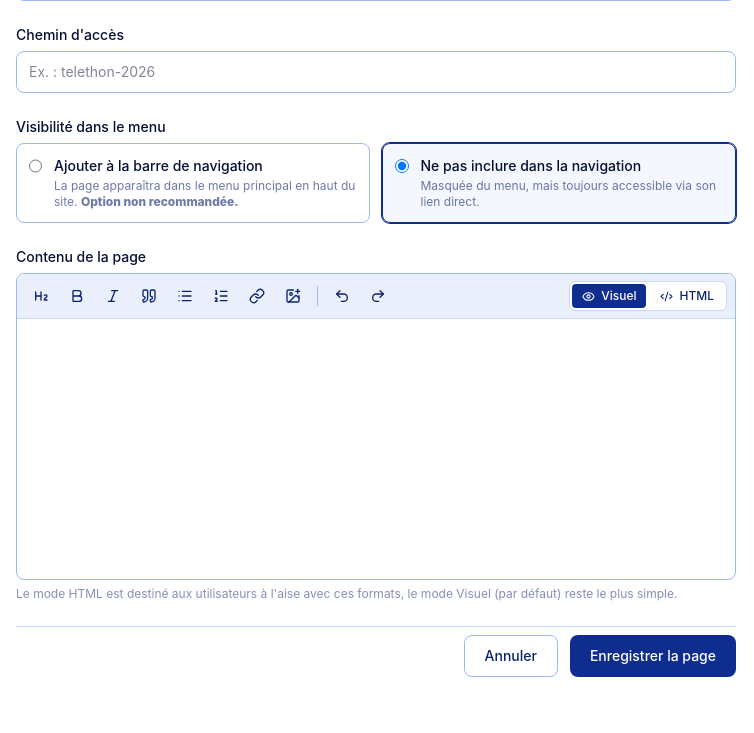
Scenario: RedactionArticle : page statique › affiche les erreurs de validation sans appeler l'API
The width and height of the screenshot is (754, 733).
(page scrolled)
Step 1. Click the button "Enregistrer la page" → point(653, 656), box [570,635,736,677]
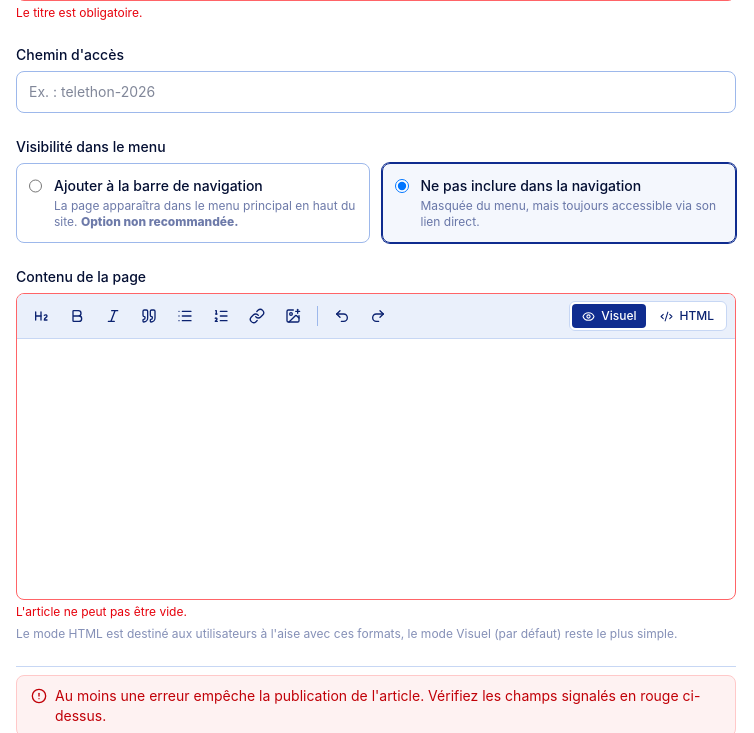
Now the text "Le titre est obligatoire." is shown, box [16,5,142,20]
Now the text "L'article ne peut pas être vide." is shown, box [16,604,187,619]
